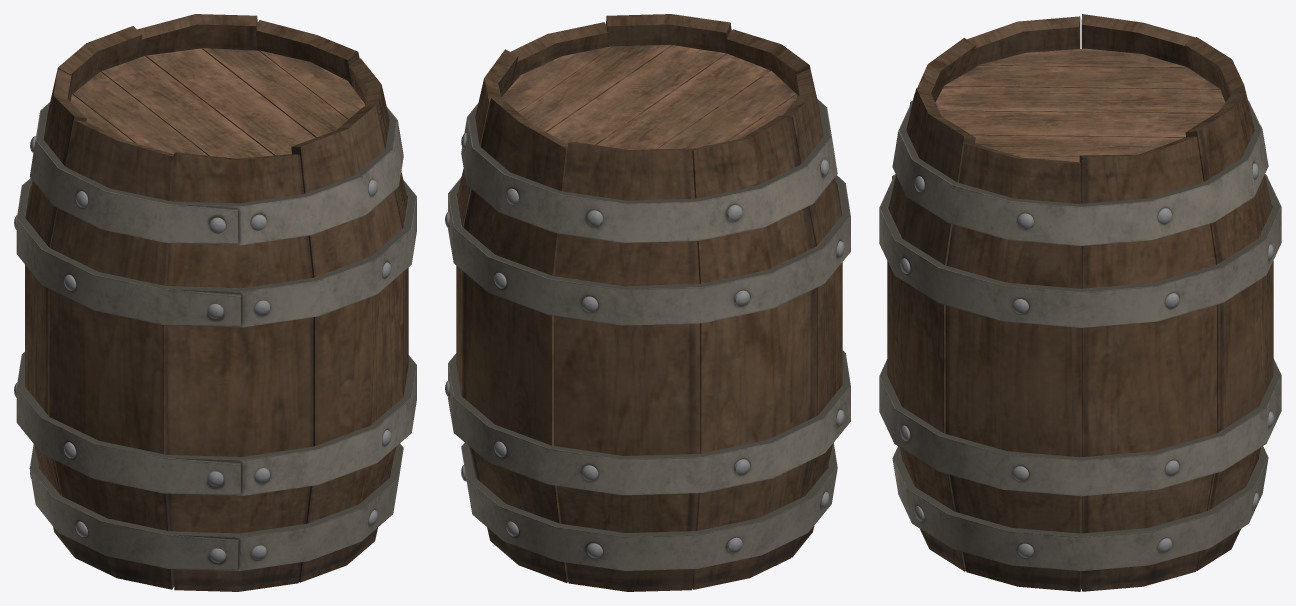
Rendered from barrel.obj.
3 renders of one model, left to right at view 1: azimuth 30°, elevation 25°; view 2: azimuth 150°, elevation 25°; view 3: azimuth 270°, elevation 25°, orthographic.
Visible parts, largest first — view 1: barrel; view 2: barrel; view 3: barrel.
Boxes of the visible parts, x1,y1,x2,y2 form: barrel: (14, 14, 416, 591); barrel: (445, 14, 850, 591); barrel: (879, 14, 1281, 591).
Size of the model in its own units: 0.7611 by 0.9179 by 0.7611.
Materials: 1 (1 with a texture image).
